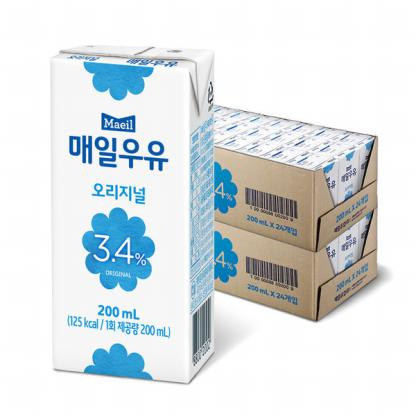tetra: (27, 24, 235, 390)
